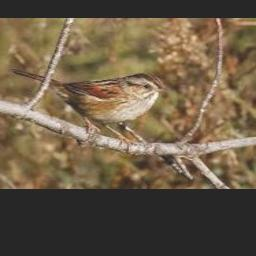Sparrow: (12, 70, 168, 152)
